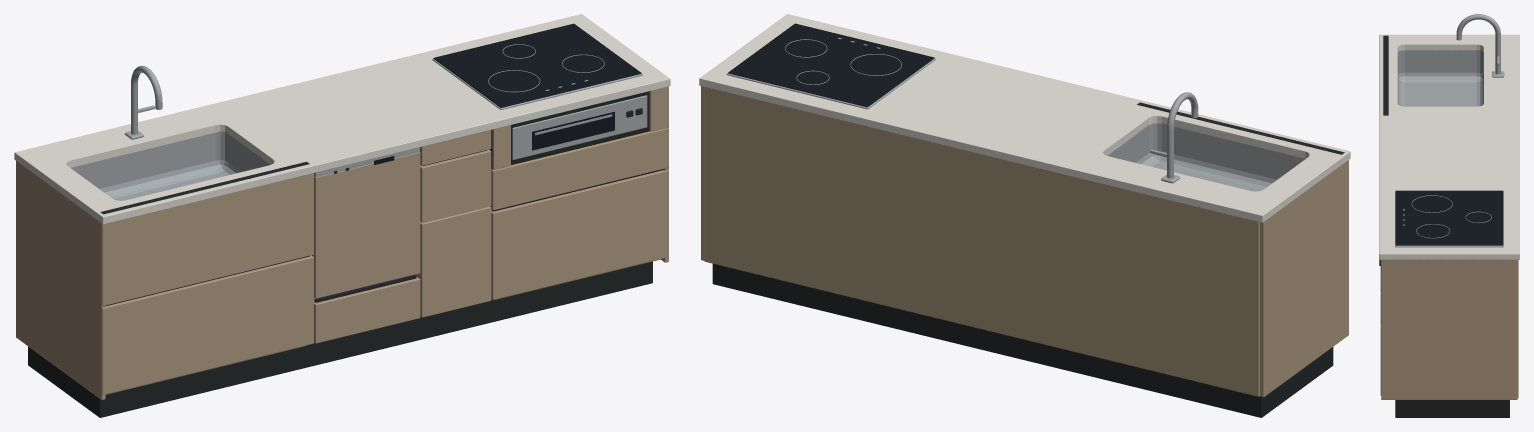
Rendered from original-kitchen-i2400-dw.glb.
3 views of the same model, side by side, from view 1: azimuth 30°, elevation 25°; view 2: azimuth 150°, elevation 25°; view 3: azimuth 270°, elevation 25° (orthographic). The views are drawn at different scales.
Visible parts, largest first — view 1: original-kitchen-i2400-dw; view 2: original-kitchen-i2400-dw; view 3: original-kitchen-i2400-dw.
Boxes of the visible parts, x1=… form: original-kitchen-i2400-dw: x1=14, y1=14, x2=670, y2=417; original-kitchen-i2400-dw: x1=699, y1=14, x2=1350, y2=417; original-kitchen-i2400-dw: x1=1379, y1=14, x2=1519, y2=417.
Bounding box in the file's own units: 2.4 × 1.16 × 0.65.
